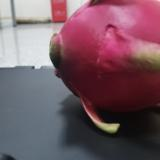pitaya: (49, 1, 160, 134)
